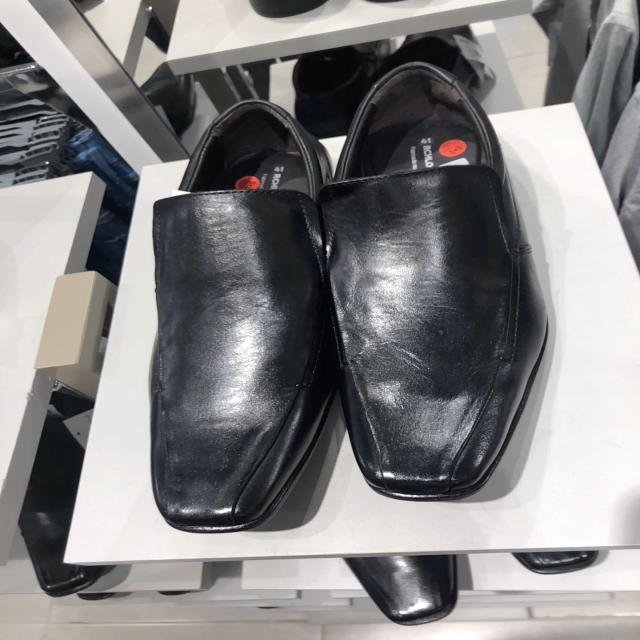shoe: (315, 163, 524, 502), (149, 180, 317, 532)
